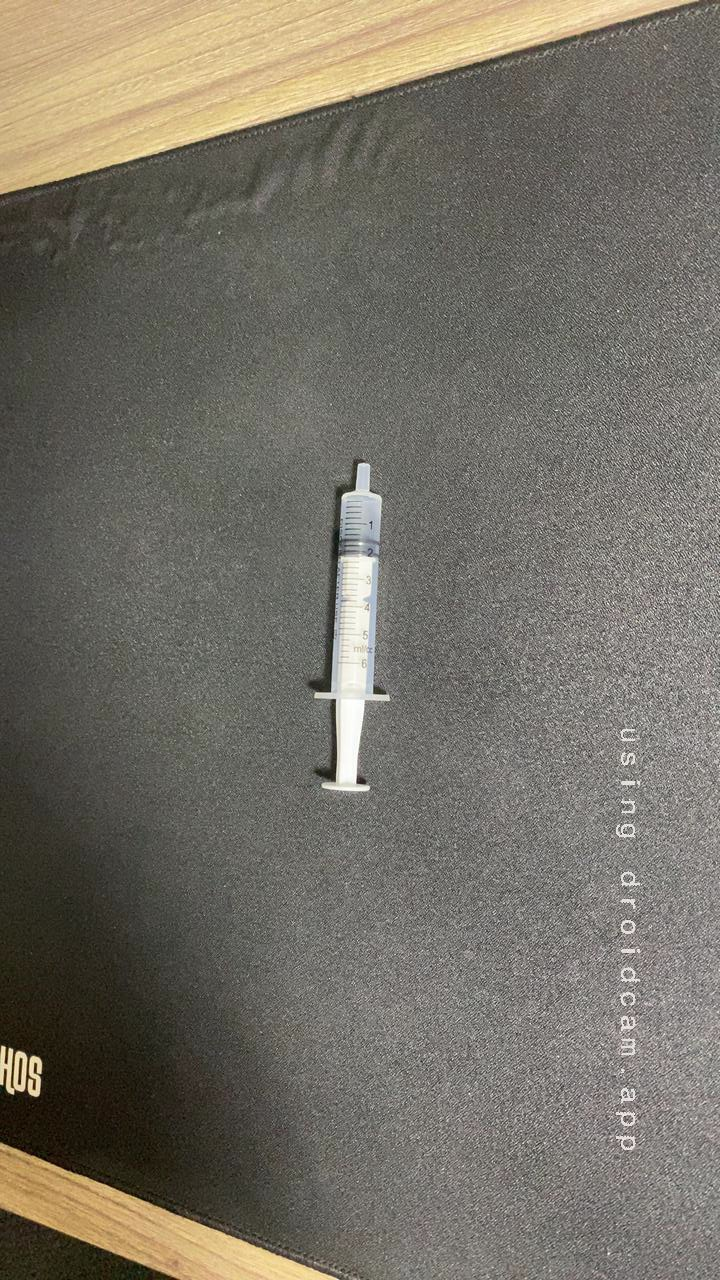syringe: (275, 434, 447, 802)
